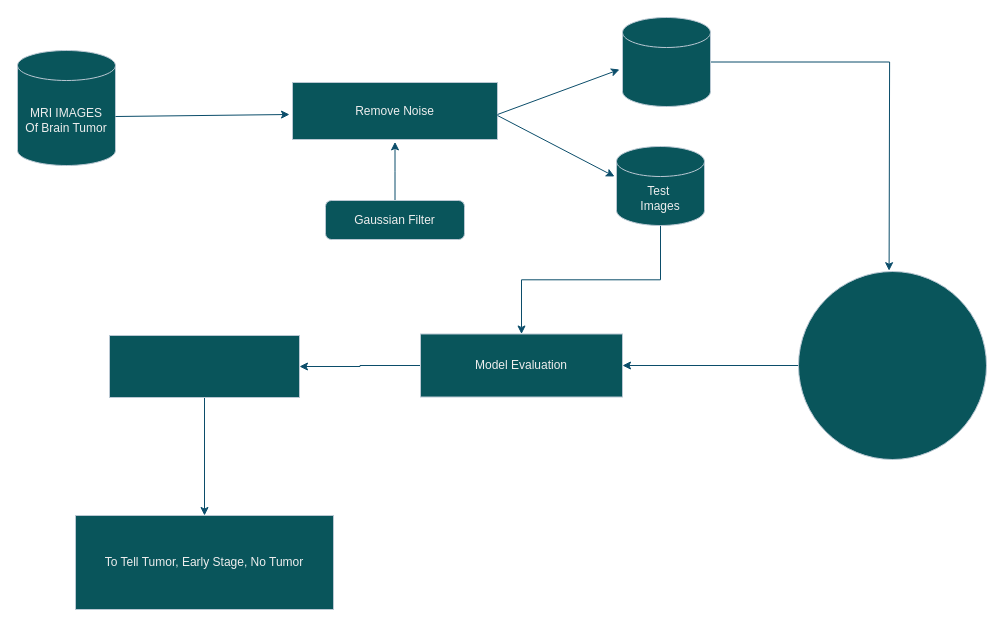
Image size: 1004x627. Some labels were removed from this diagram. The shapes that lost their labels are listed below. From the top down, each one's centre as x and y in pixels, then its label:
At [666,61]: "Train Images".
At [204,366]: "Model Performance Metrics".
At [892,365]: "CNN Model".
